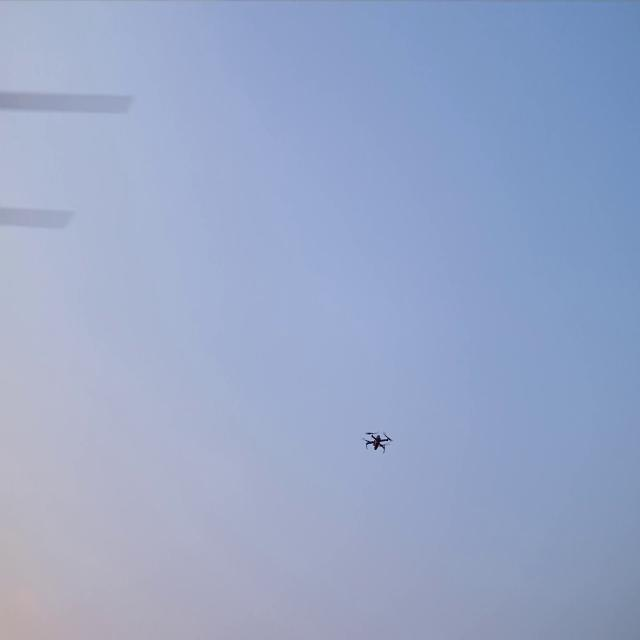UAV: (361, 429, 393, 457)
